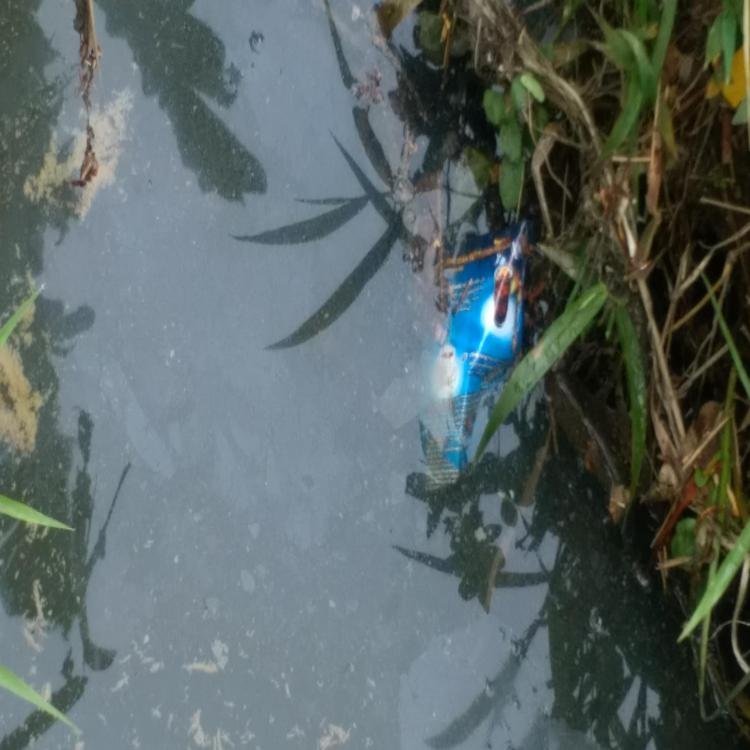Other plastic: (417, 220, 534, 493)
